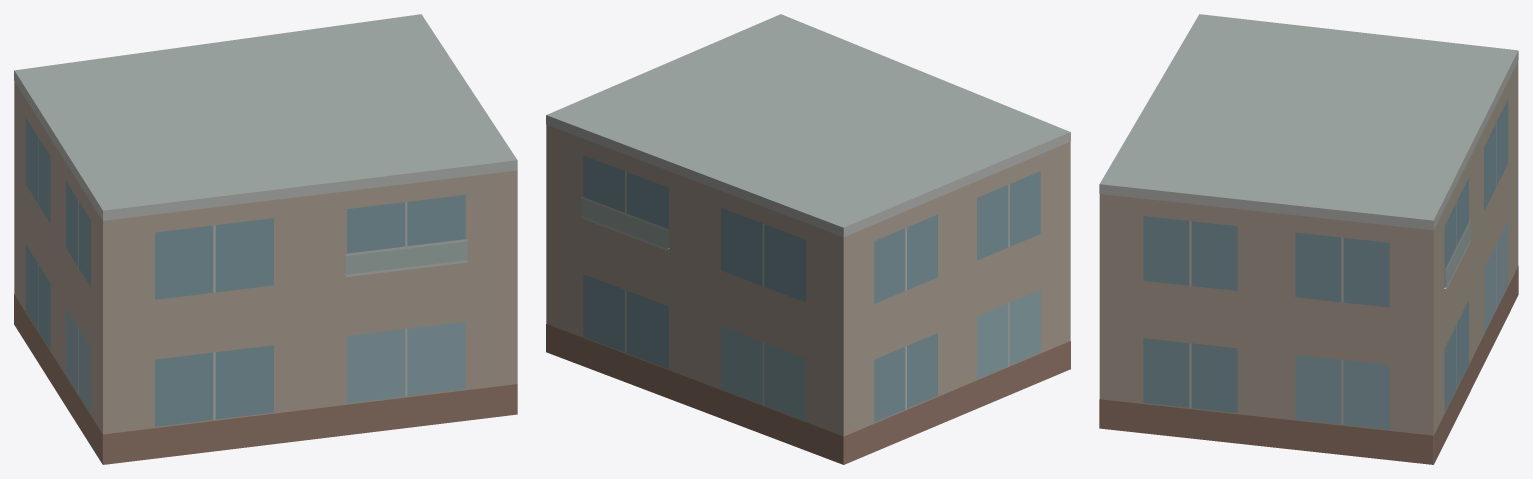
File: survey-upis-32656323.glb
The picture shows the model from 3 angles, left to right: view 1: azimuth 30°, elevation 25°; view 2: azimuth 150°, elevation 25°; view 3: azimuth 270°, elevation 25°; orthographic projection. The views are drawn at different scales.
Visible parts, largest first — view 1: survey-upis-32656323.tmp; view 2: survey-upis-32656323.tmp; view 3: survey-upis-32656323.tmp.
Boxes of the visible parts, left/top/right/bottom form: survey-upis-32656323.tmp: left=14, top=14, right=517, bottom=464; survey-upis-32656323.tmp: left=546, top=14, right=1070, bottom=464; survey-upis-32656323.tmp: left=1099, top=14, right=1518, bottom=464.
Size of the model in its own units: 11.07 by 6.1 by 9.49.
